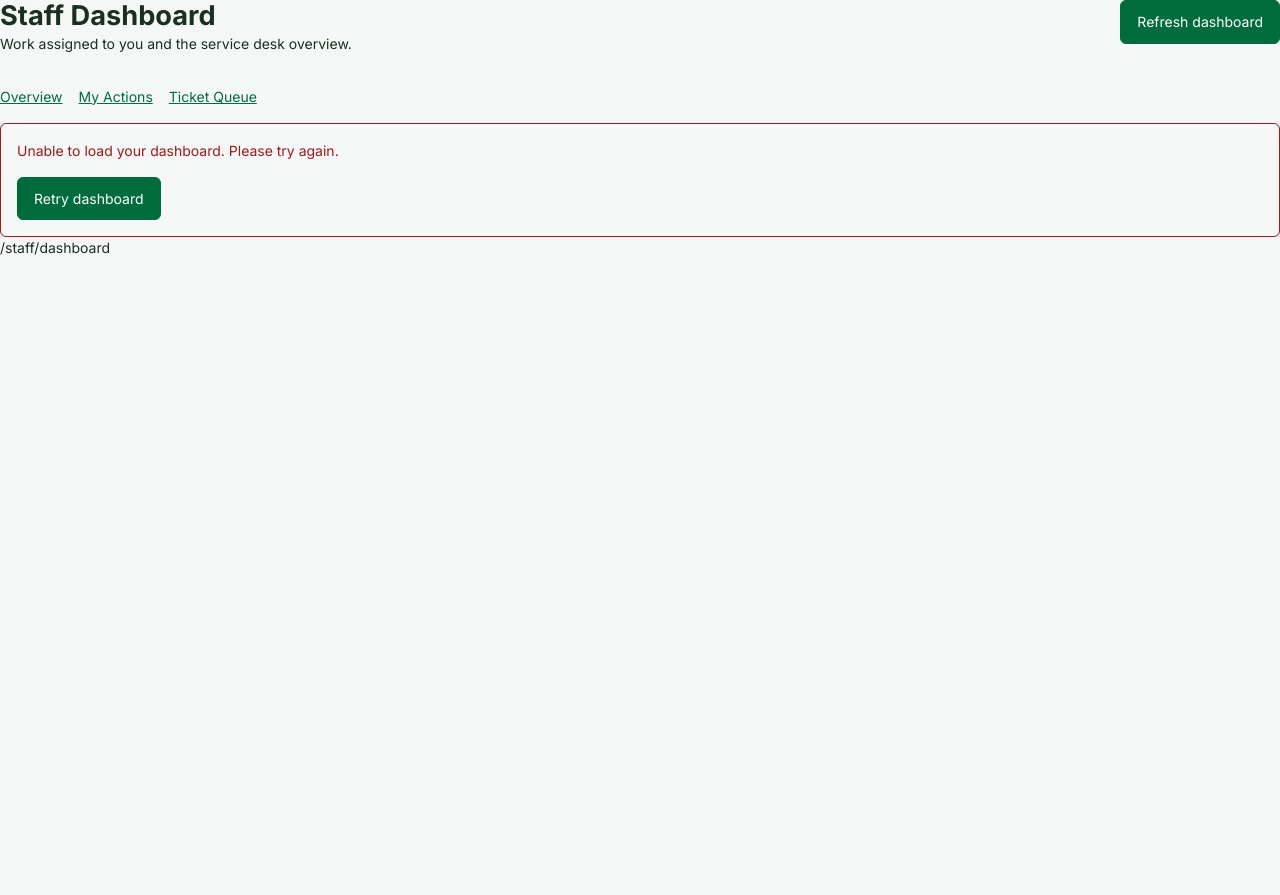
Test: Staff Dashboard › retries safe failure without displaying arbitrary server text
Check: the message does not show "SECRET", box [0, 123, 1279, 237]
Step 1. Click the button "Retry dashboard" → click(89, 198), box [17, 177, 160, 220]
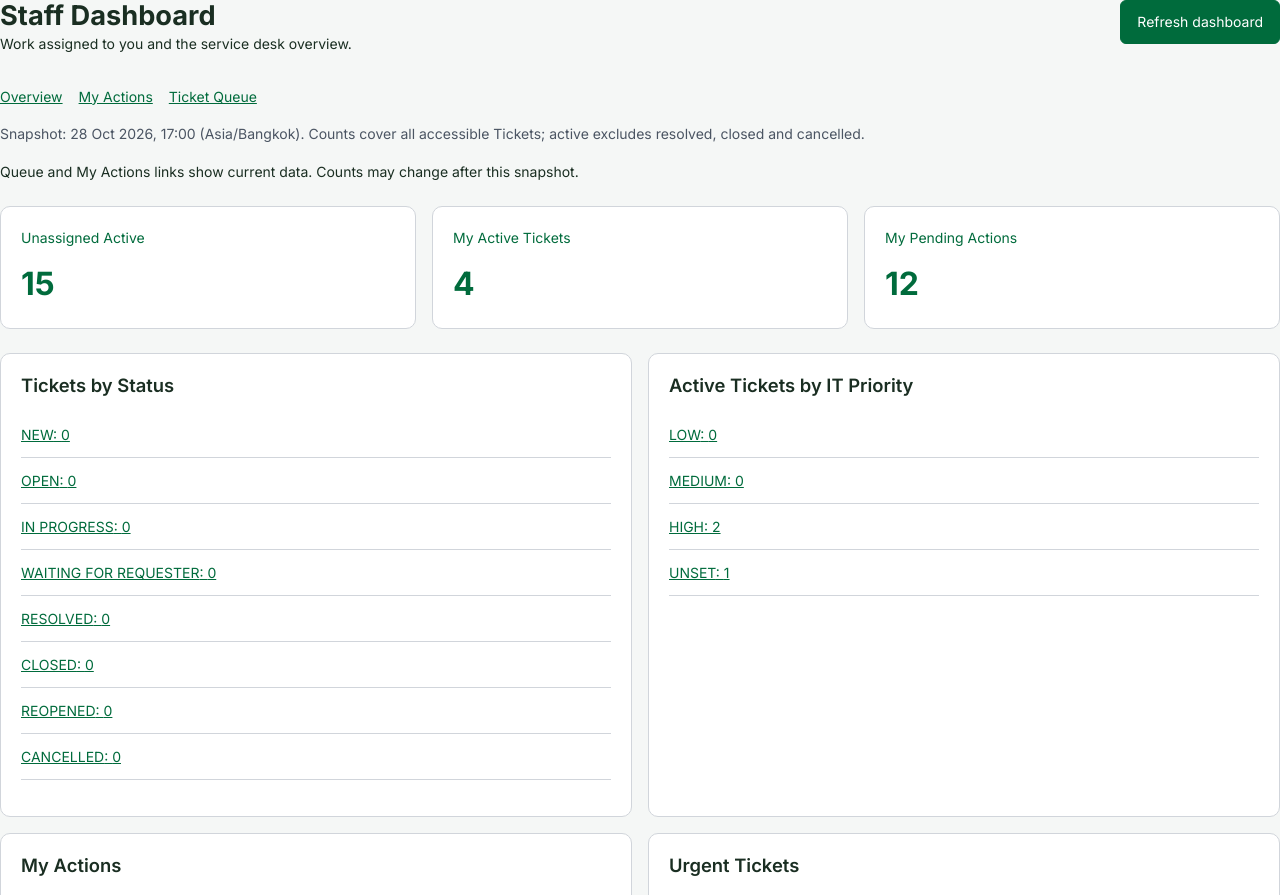
Check: the link with aria-label "My Active Tickets: 4" is shown, box [432, 206, 848, 329]
